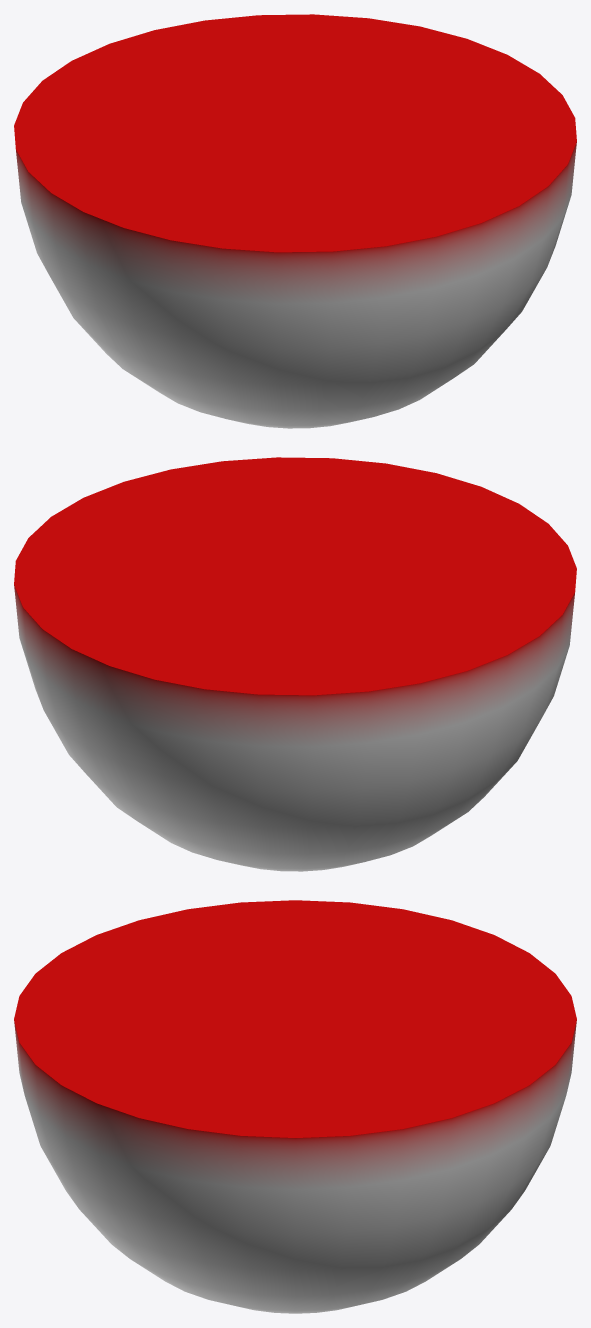
File: WaterCoffeeMug.fbx
3 views of the same model, one above another, from view 1: azimuth 30°, elevation 25°; view 2: azimuth 150°, elevation 25°; view 3: azimuth 270°, elevation 25° (orthographic).
Visible parts, largest first — view 1: WaterCoffeeMug; view 2: WaterCoffeeMug; view 3: WaterCoffeeMug.
Boxes of the visible parts, <box> form: WaterCoffeeMug: <box>14,14,576,428</box>; WaterCoffeeMug: <box>14,457,576,871</box>; WaterCoffeeMug: <box>14,900,576,1313</box>.
Size of the model in its own units: 0.6909 by 0.3573 by 0.6909.
